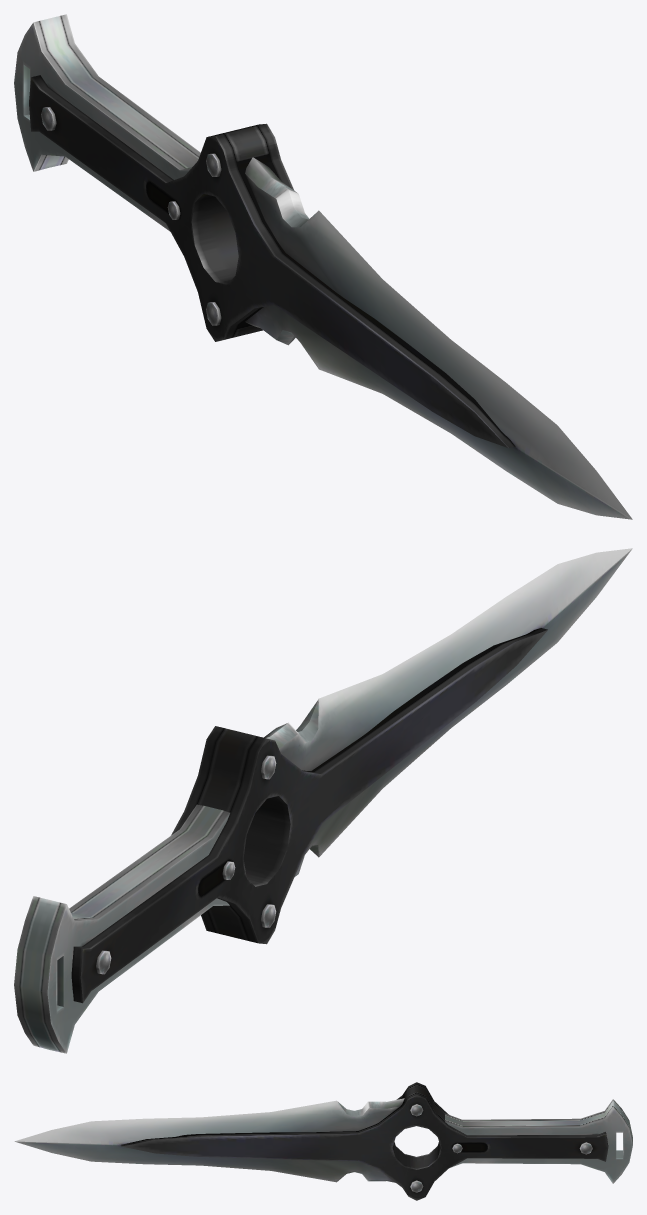
The picture shows the model from 3 angles, top to bottom: view 1: azimuth 30°, elevation 25°; view 2: azimuth 150°, elevation 25°; view 3: azimuth 270°, elevation 25°; orthographic projection. The views are drawn at different scales.
Visible parts, largest first — view 1: mDagger; view 2: mDagger; view 3: mDagger.
Part boxes in pixels (<box>): mDagger: <box>14,14,632,519</box>; mDagger: <box>14,548,632,1053</box>; mDagger: <box>14,1082,632,1200</box>.
Size of the model in its own units: 0.0287 by 0.0933 by 0.4949.
Materials: 1 (1 with a texture image).
